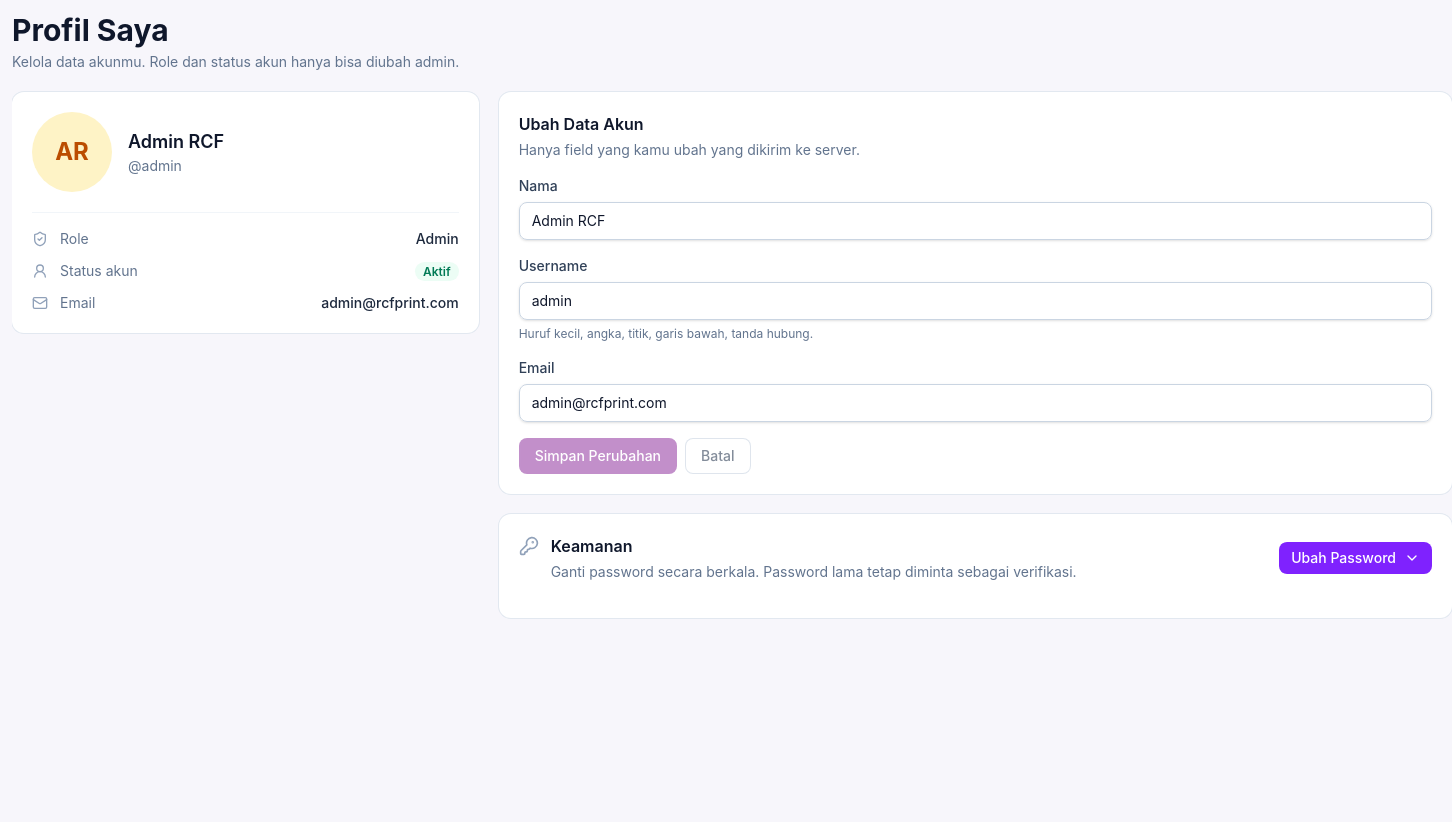
it: ProfilePage › menolak field kosong tanpa memanggil API
Clear the field labelled "Nama": (975,221) [519, 202, 1432, 240]
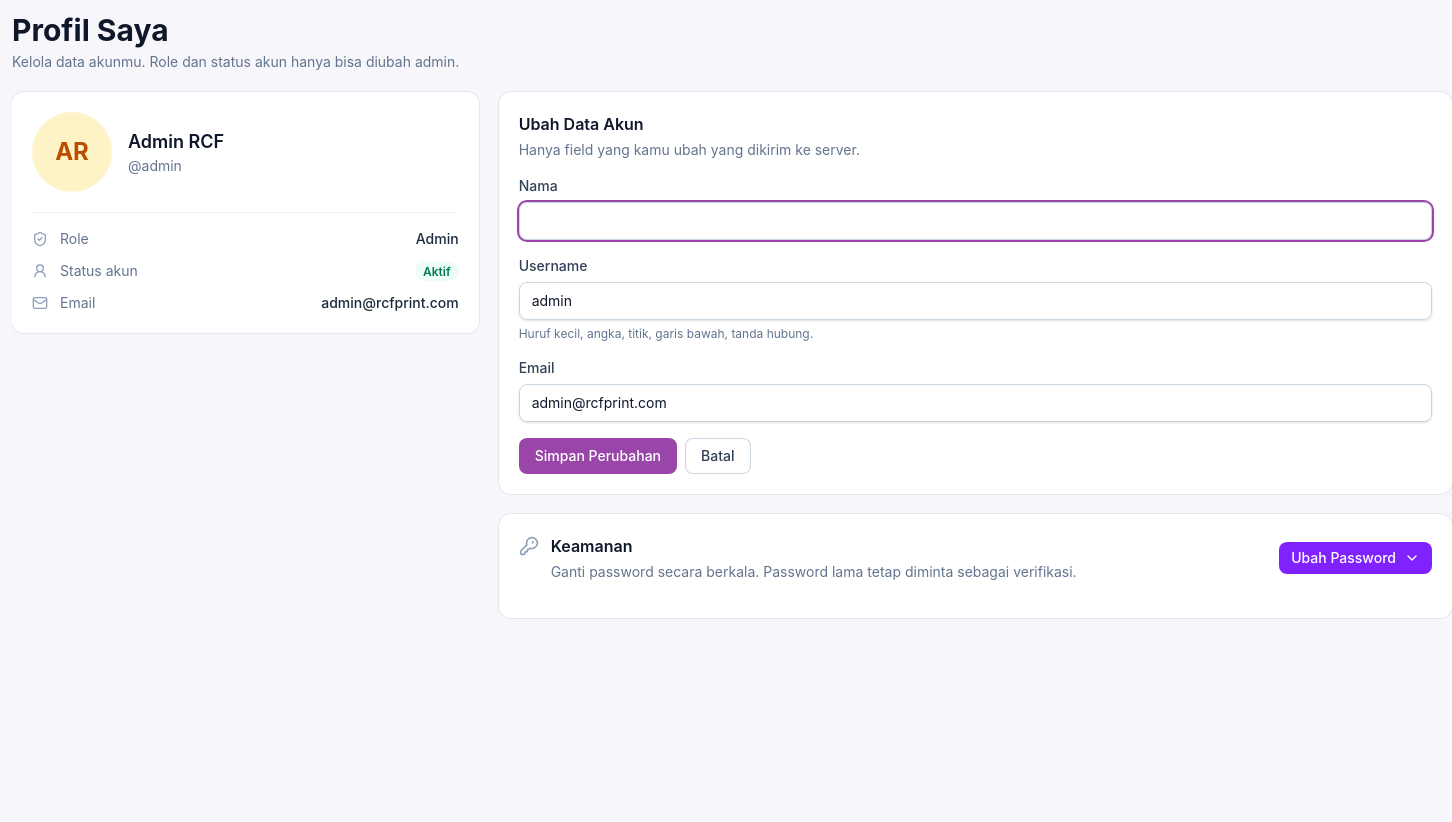
Click the button "Simpan Perubahan": (598,456) [519, 438, 677, 474]
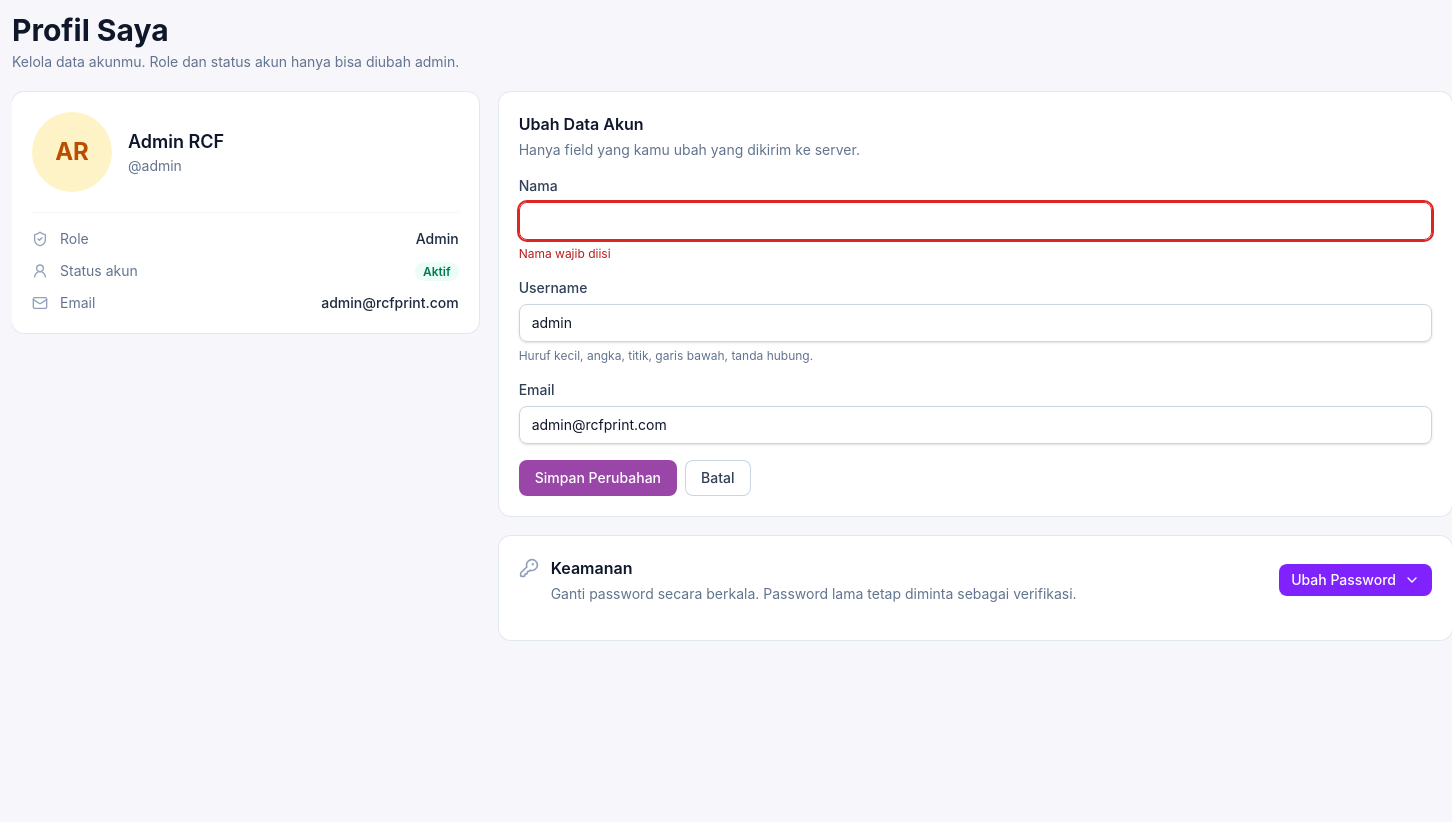
Check: the text "Nama wajib diisi" is shown, box [519, 246, 611, 261]
